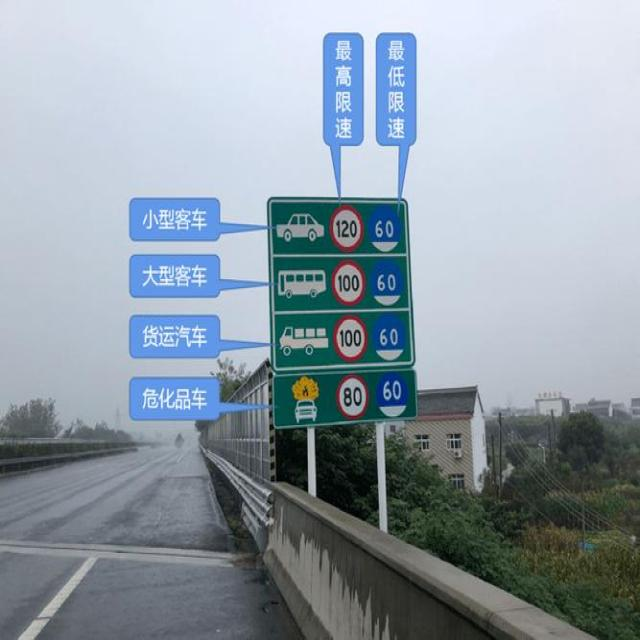speed limit 100: (333, 315, 367, 367), (331, 261, 366, 308)
speed limit 120: (330, 205, 364, 252)
speed limit 60: (367, 205, 402, 254), (373, 315, 407, 364), (372, 260, 403, 308), (378, 371, 409, 417)
speed limit 80: (336, 370, 370, 420)
